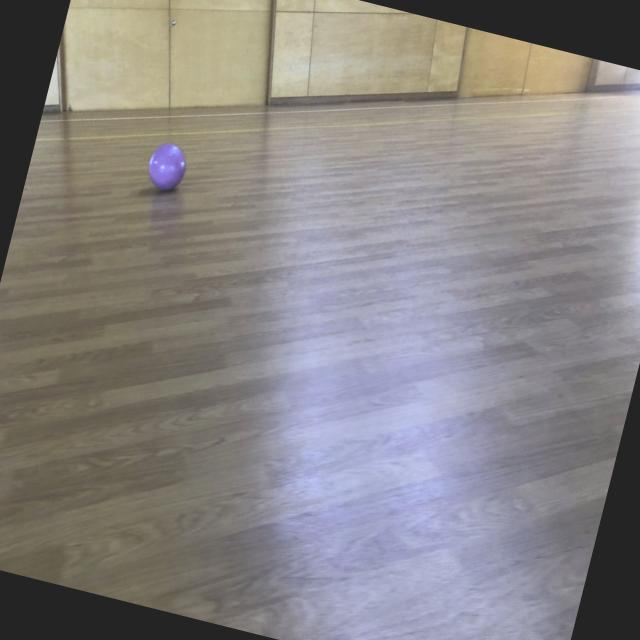purple_ball: (142, 138, 190, 194)
